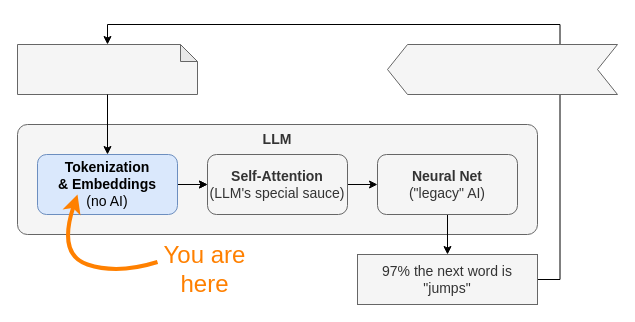
Image size: 635x322. Some labels were removed from this diagram. The shapes that lost their labels are listed below. From the top down, each one's centre as x and y in pixels, then its label:
point 107,69: "The qui ck brown fox"
point 502,69: add token to input "The quick brown fox jumps "
